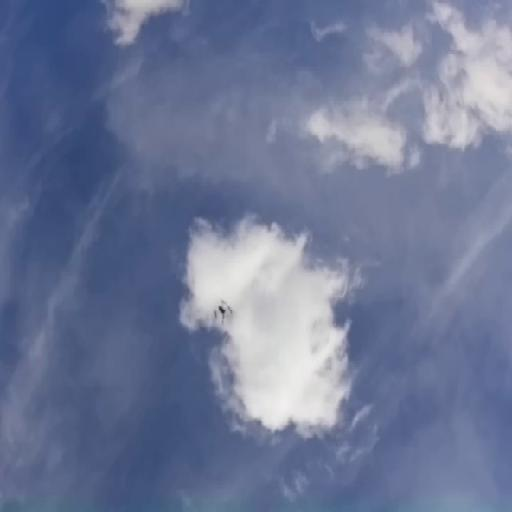drones: (212, 295, 235, 331)
